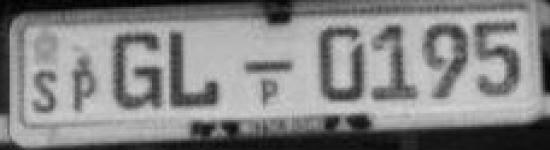-: (237, 53, 300, 78)
0: (314, 20, 369, 104)
1: (369, 20, 419, 104)
5: (471, 14, 527, 103)
9: (419, 18, 470, 103)
G: (110, 27, 166, 116)
L: (165, 25, 225, 116)
P: (64, 66, 100, 116)
S: (31, 68, 61, 116)
